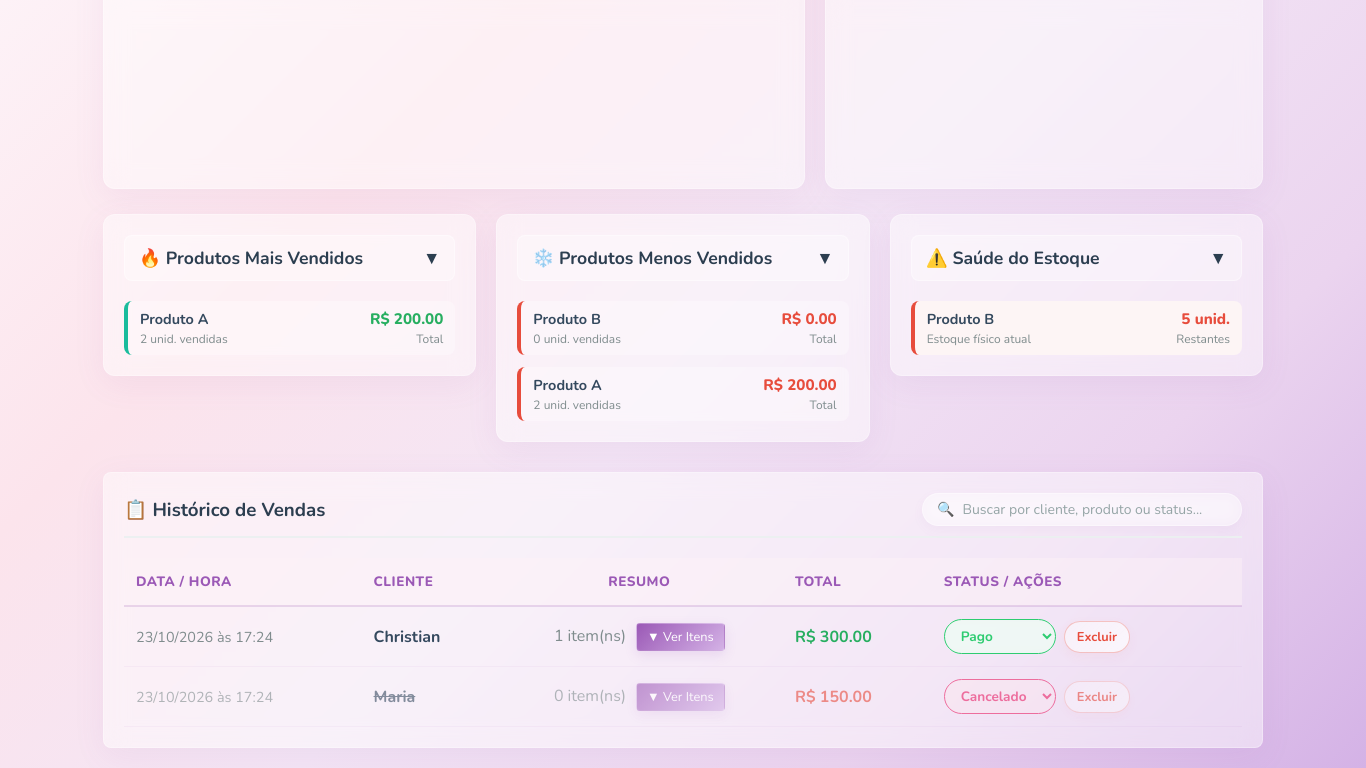
Scenario: Componente Relatorios - Testes de Dashboard › Deve filtrar a lista de vendas por status do pedido de maneira case-insensitive na busca
(page scrolled)
Check: the text "Christian" is shown, box [362, 606, 496, 666]
// Busca por status "Cancelado"
Type "cancelado" into the field with placeholder "Buscar por cliente, produto ou status..." at (1095, 510), box [962, 500, 1227, 519]
(page scrolled)
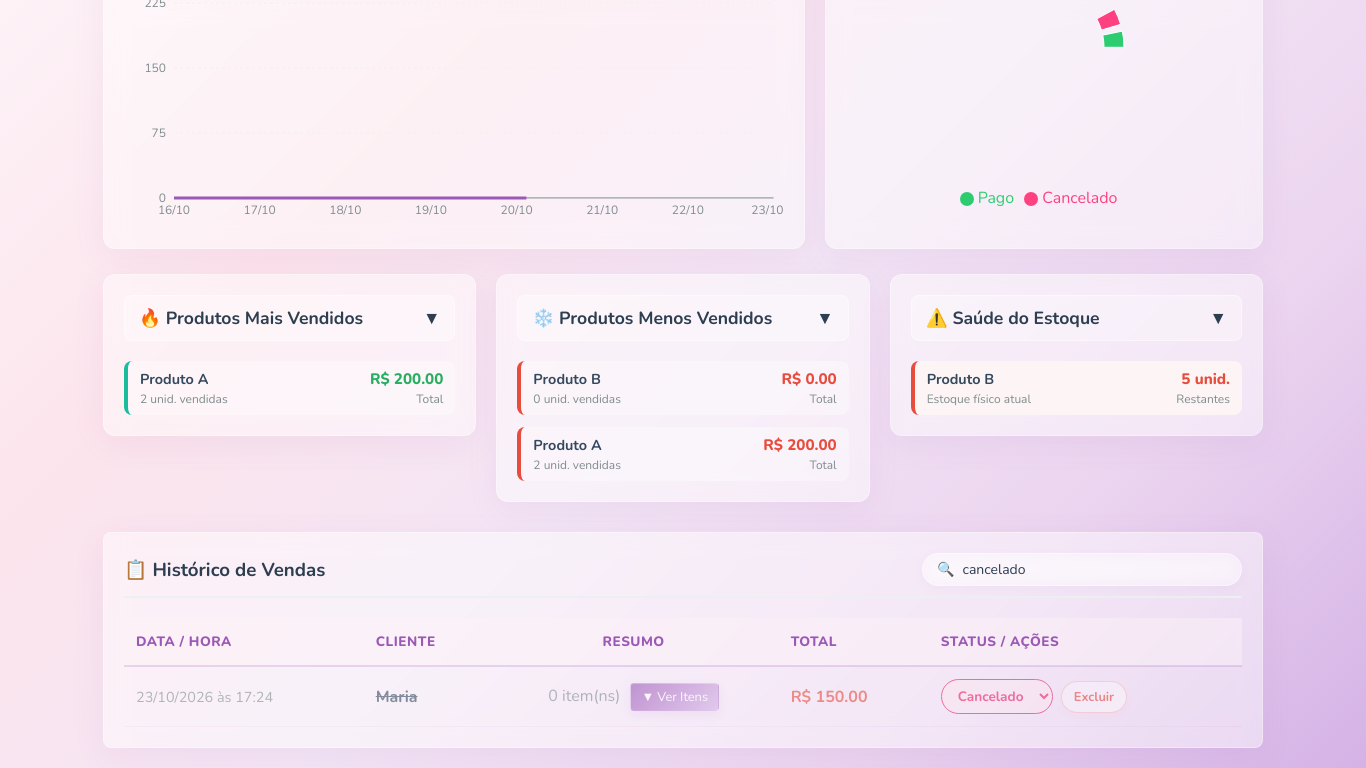
Check: the text "Maria" is shown, box [364, 666, 489, 726]
Check: the text "Christian" is gone
